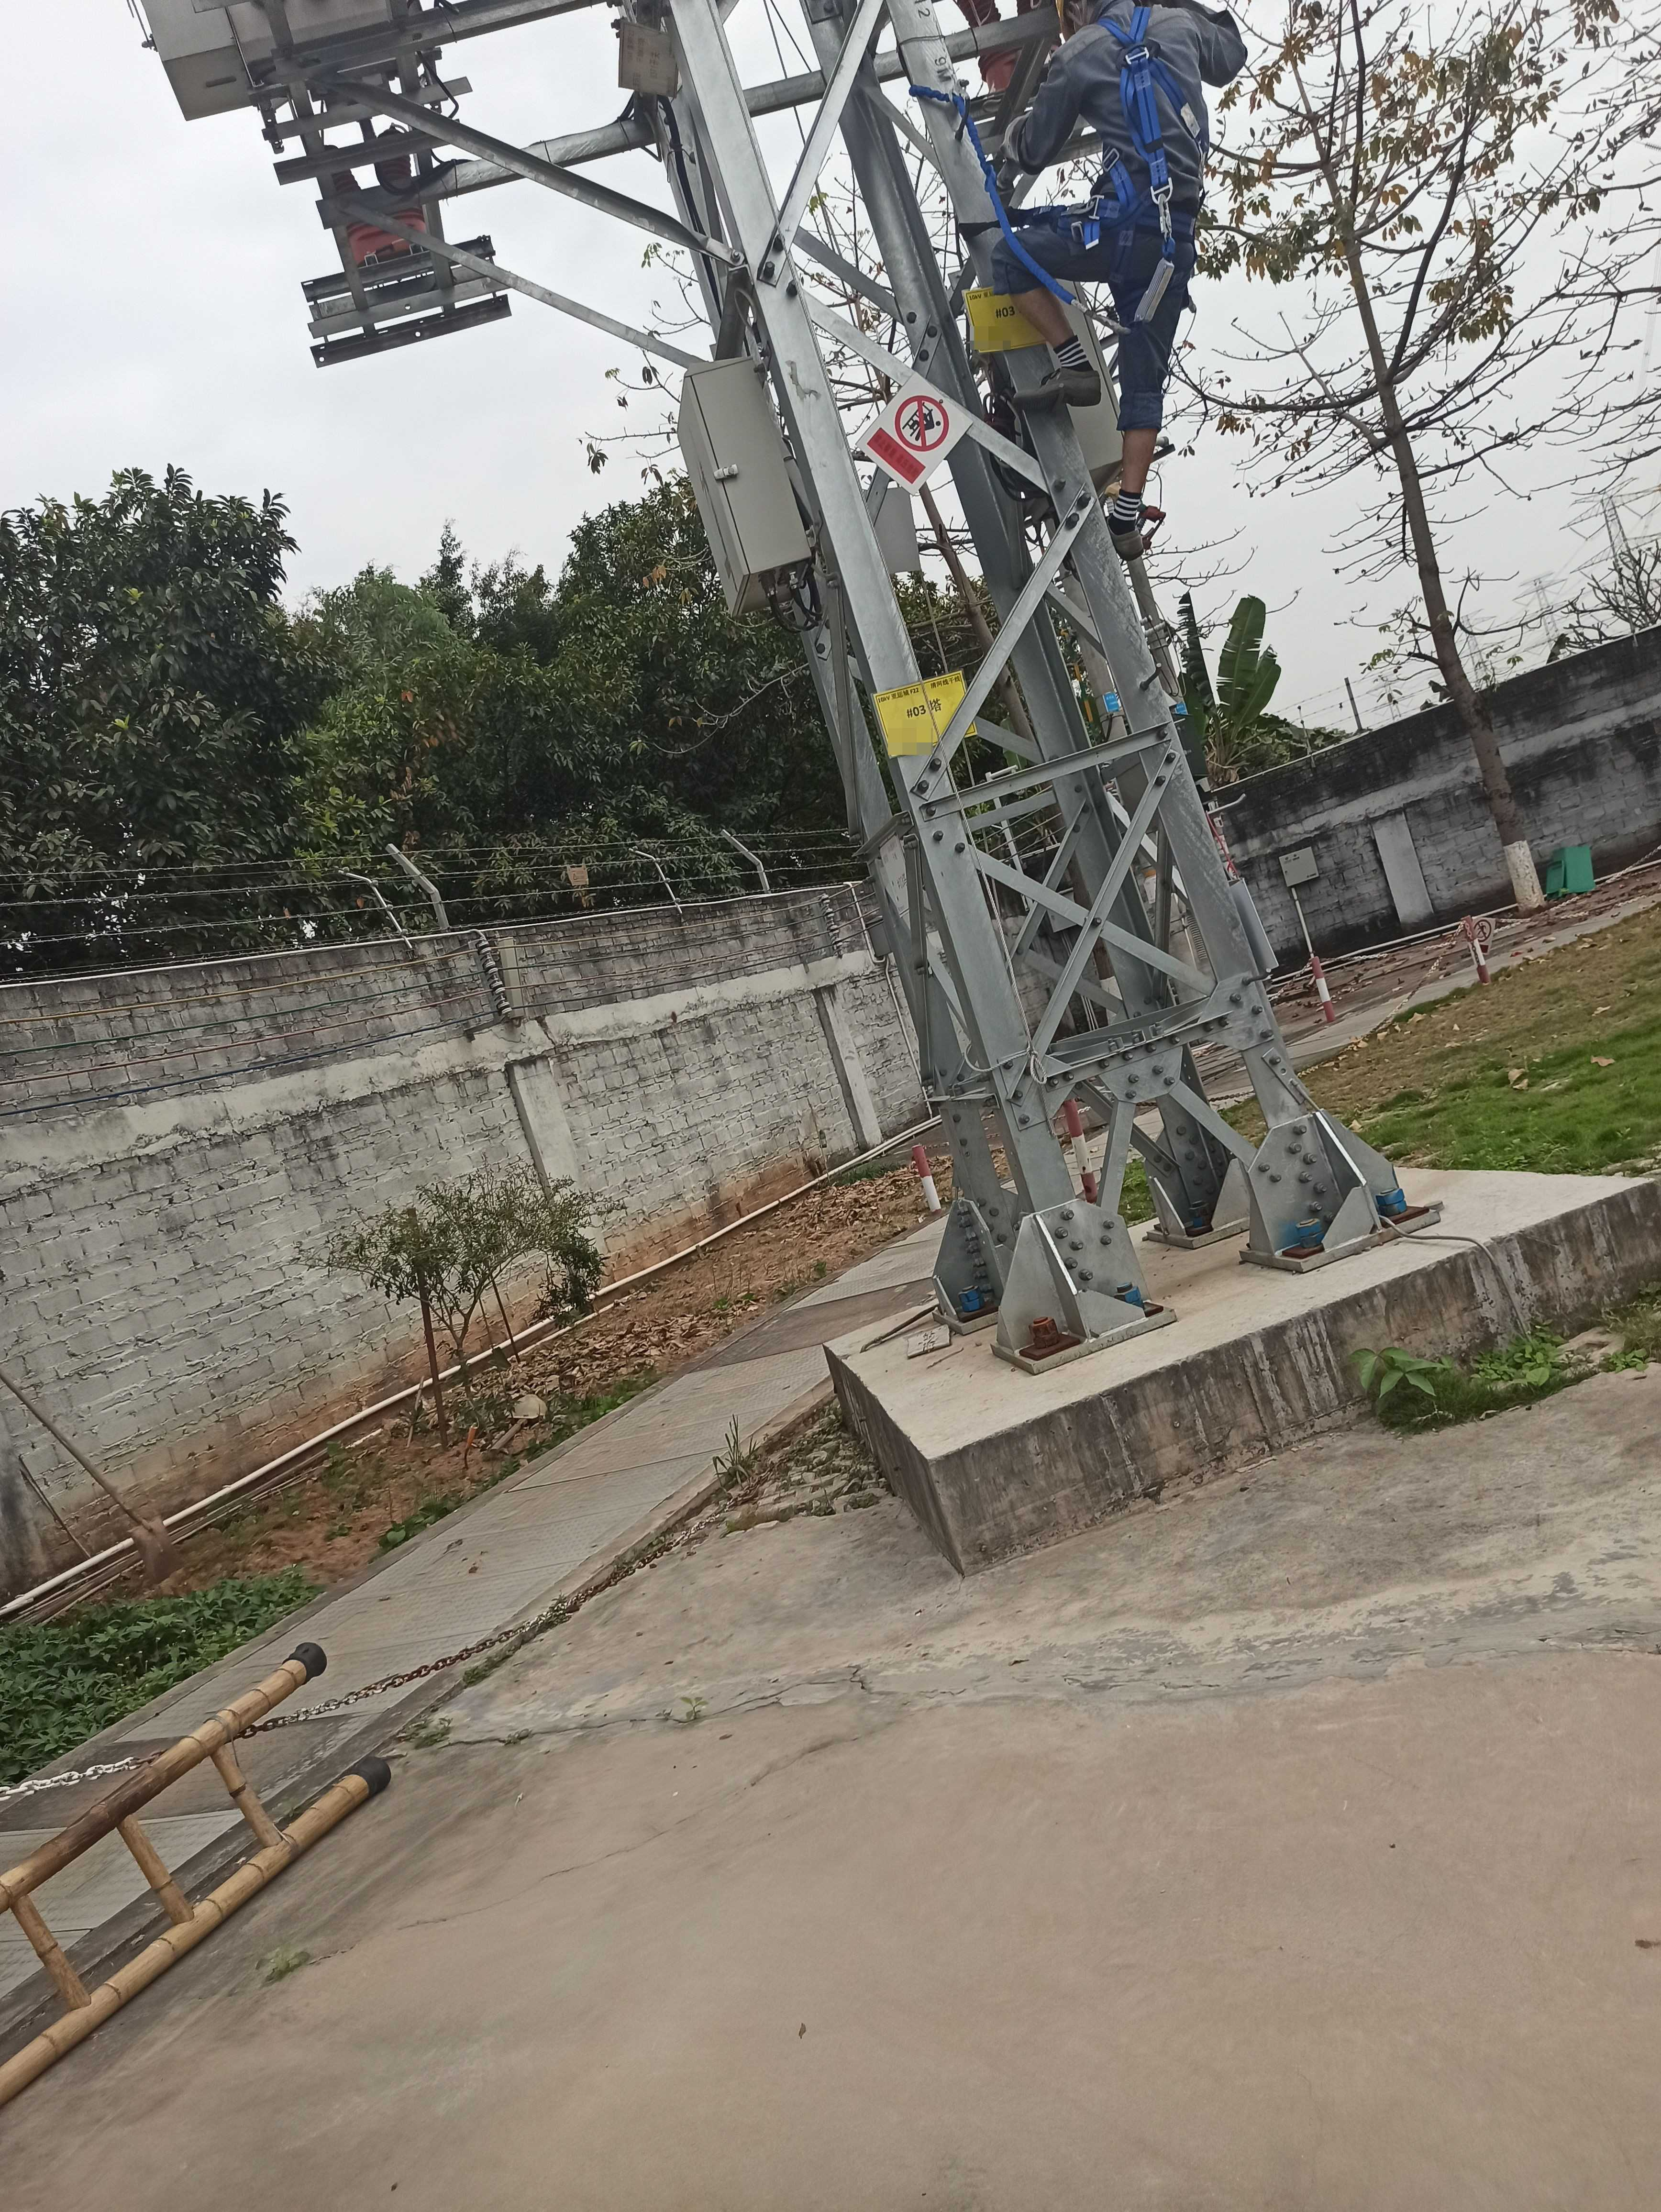downsuit: (998, 220, 1199, 427)
upsuit: (1014, 2, 1247, 183)
wrongbottom: (1005, 255, 1078, 363), (1110, 382, 1171, 501)
